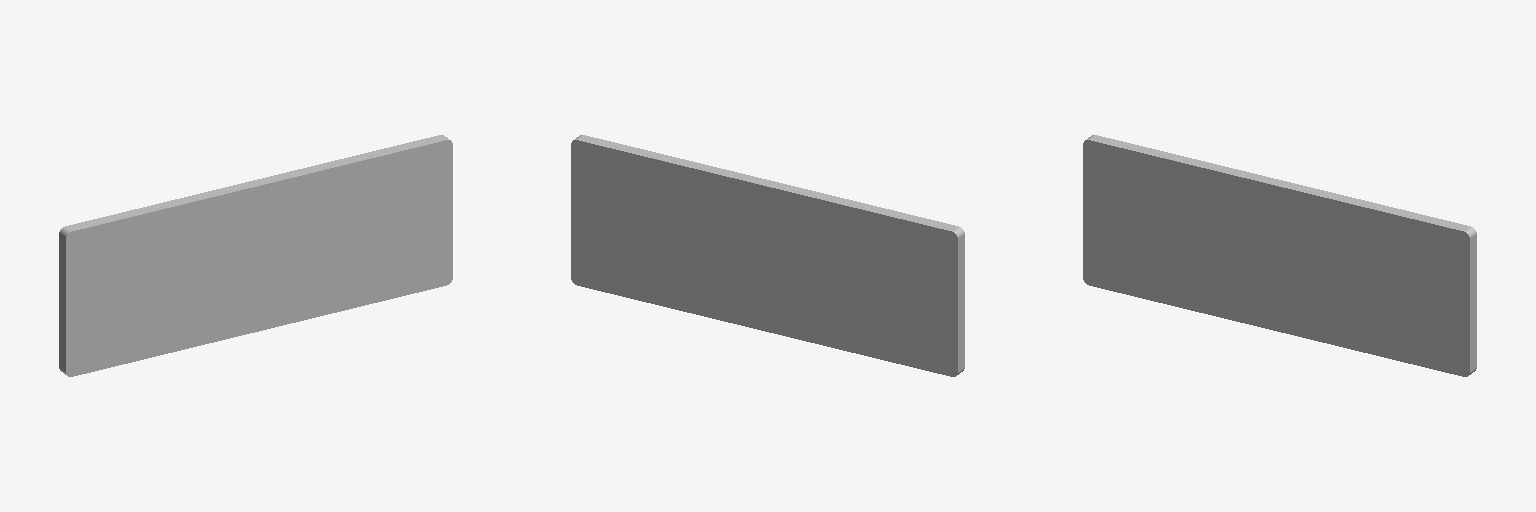
File: MarbleCountertop.obj
The picture shows the model from 3 angles: view 1: azimuth 30°, elevation 25°; view 2: azimuth 150°, elevation 25°; view 3: azimuth 330°, elevation 25°; orthographic projection.
Bounding box in the file's own units: 1.63 × 0.5842 × 0.0508.